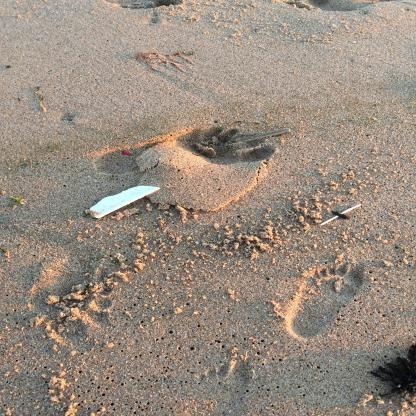plastik: (91, 187, 162, 220), (321, 204, 363, 227)
